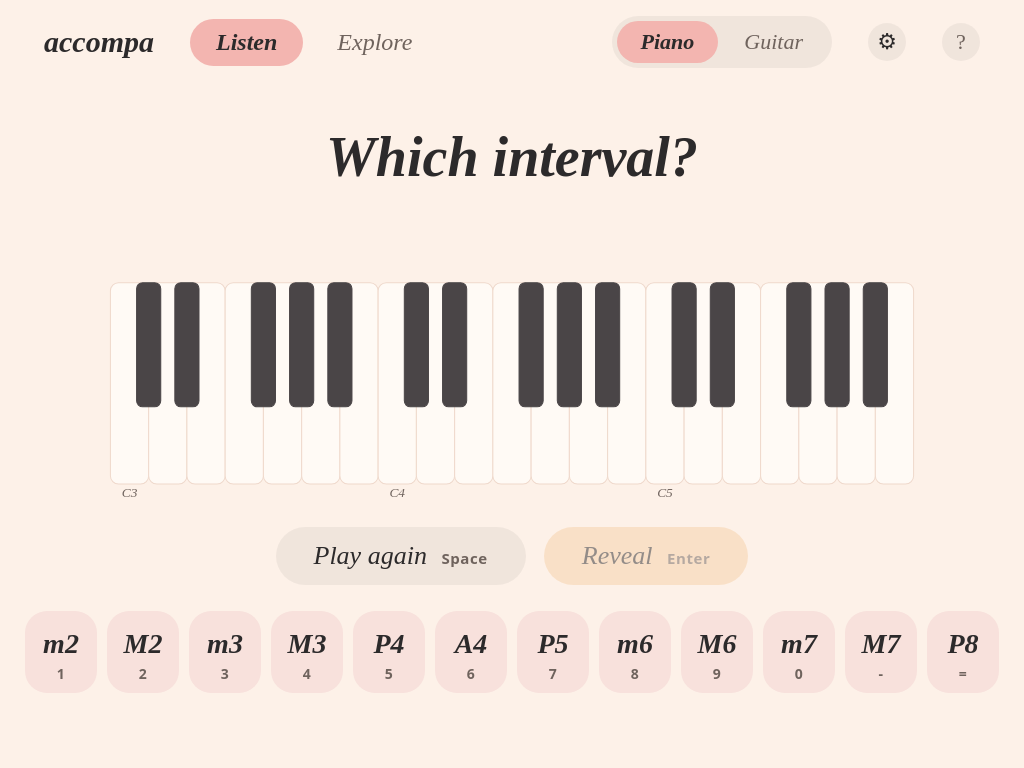
Test: Reveal and Next › reveals on click, and Next draws and plays a new interval and unlights
Press Space
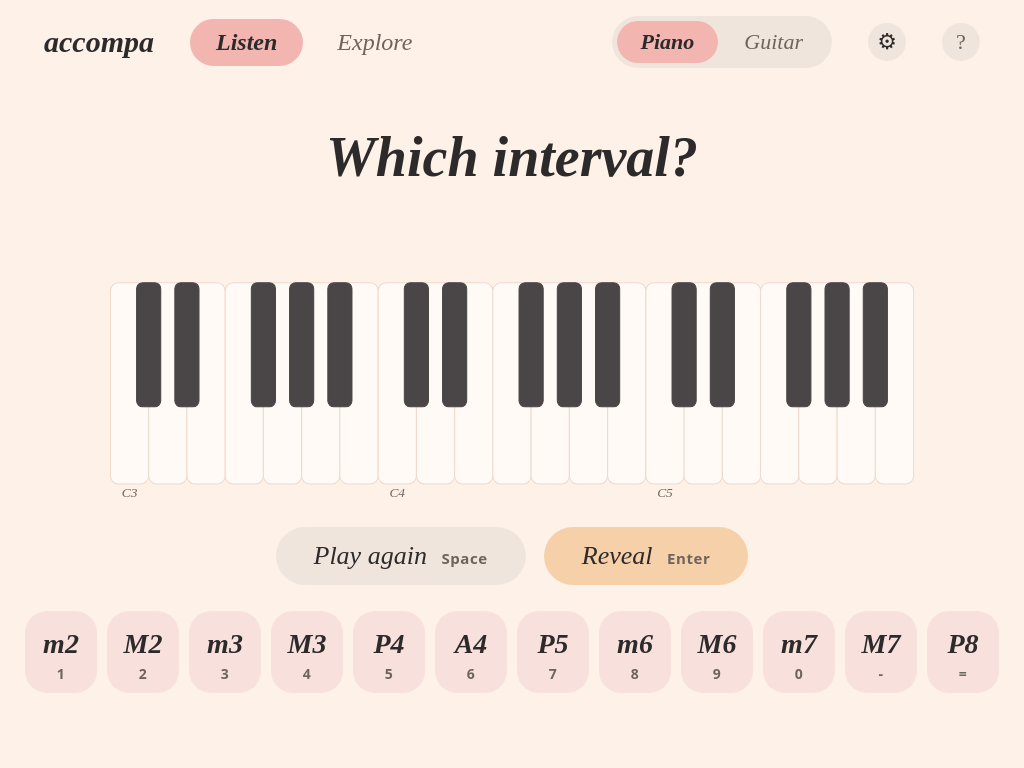
Click the button "Reveal Enter" at (646, 556), box [544,527,748,585]
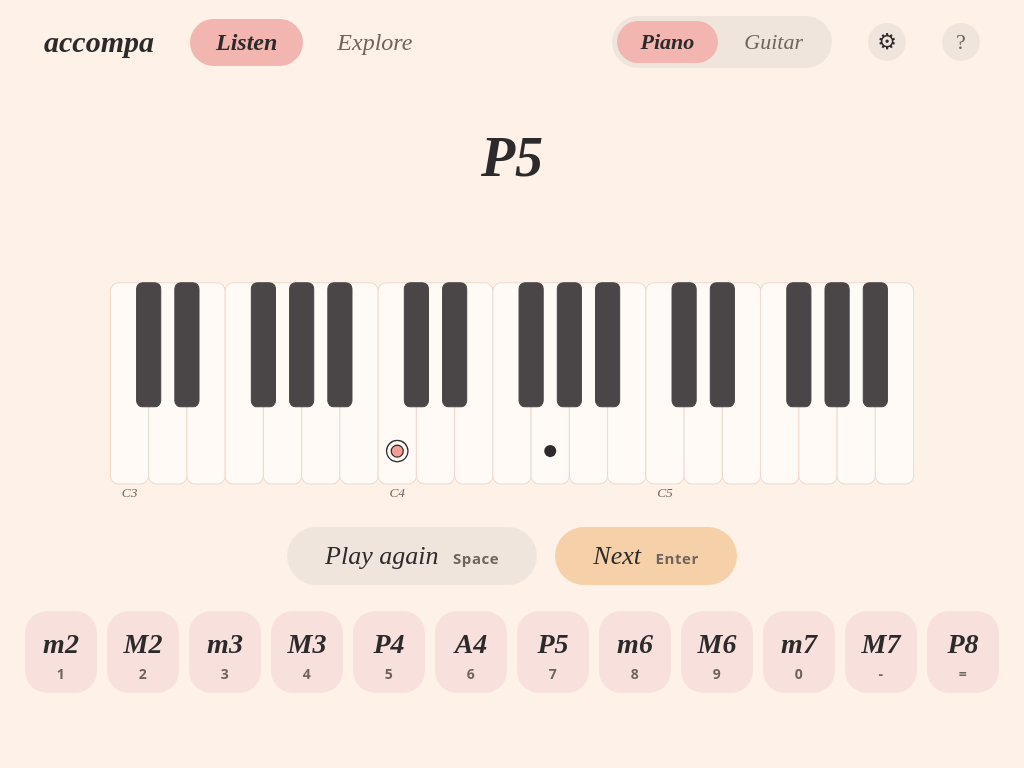
Click the button "Next Enter" at (646, 556), box [555,527,737,585]
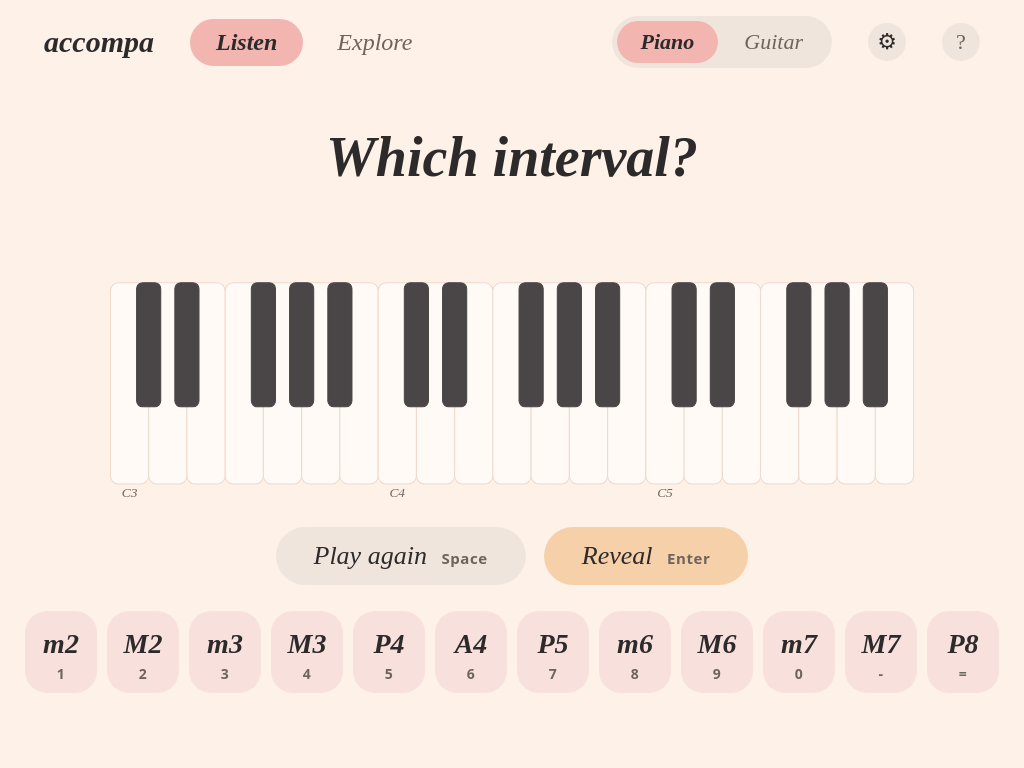
Now the text "Which interval?" is shown, box [326,128,698,187]
Now the button "Reveal Enter" is shown, box [544,527,748,585]
